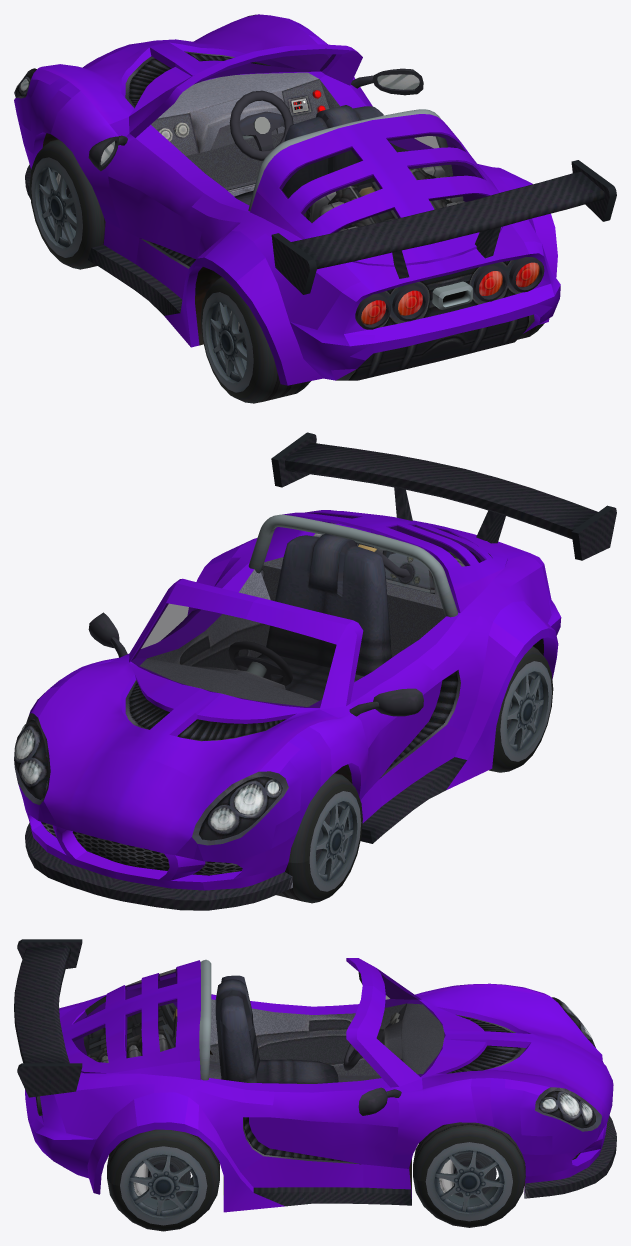
Rendered from bbr_2_-_lambini_gt.glb.
3 views of the same model, one above another, from view 1: azimuth 30°, elevation 25°; view 2: azimuth 150°, elevation 25°; view 3: azimuth 270°, elevation 25° (orthographic). The views are drawn at different scales.
Visible parts, largest first — view 1: mesh_12_14.nr.004, mesh_12_12.nr.004, mesh_12_24.nr.003, mesh_12_15.nr.011, mesh_12_15.nr.010, mesh_12_19.nr.012, mesh_12_19.nr.011; view 2: mesh_12_14.nr.004, mesh_12_12.nr.004, mesh_12_24.nr.003, mesh_12_15.nr.011, mesh_12_15.nr.010, mesh_12_19.nr.011, mesh_12_19.nr.012; view 3: mesh_12_14.nr.004, mesh_12_12.nr.004, mesh_12_24.nr.003, mesh_12_15.nr.012, mesh_12_15.nr.013, mesh_12_19.nr.014, mesh_12_19.nr.013, mesh_12_8.nr.013, mesh_12_8.nr.012.
Part boxes in pixels (box(x1,y1,x2,y2)): mesh_12_14.nr.004: box(14, 14, 560, 385); mesh_12_12.nr.004: box(14, 14, 616, 380); mesh_12_24.nr.003: box(194, 54, 486, 232); mesh_12_15.nr.011: box(202, 292, 253, 392); mesh_12_15.nr.010: box(31, 157, 82, 257); mesh_12_19.nr.012: box(201, 277, 310, 403); mesh_12_19.nr.011: box(29, 139, 105, 269); mesh_12_14.nr.004: box(18, 510, 561, 890); mesh_12_12.nr.004: box(14, 432, 616, 910); mesh_12_24.nr.003: box(131, 513, 485, 707); mesh_12_15.nr.011: box(500, 661, 551, 761); mesh_12_15.nr.010: box(309, 791, 361, 891); mesh_12_19.nr.011: box(276, 773, 362, 903); mesh_12_19.nr.012: box(489, 646, 553, 772); mesh_12_14.nr.004: box(25, 958, 613, 1212); mesh_12_12.nr.004: box(14, 939, 616, 1206); mesh_12_24.nr.003: box(72, 968, 445, 1076); mesh_12_15.nr.012: box(120, 1146, 207, 1225); mesh_12_15.nr.013: box(425, 1142, 512, 1221); mesh_12_19.nr.014: box(413, 1122, 525, 1227); mesh_12_19.nr.013: box(107, 1129, 219, 1231); mesh_12_8.nr.013: box(453, 1152, 496, 1198); mesh_12_8.nr.012: box(147, 1156, 190, 1200).
Size of what is drawn, in the model's own units: 2.13 by 1.41 by 4.01.
20 materials, 19 textured.
